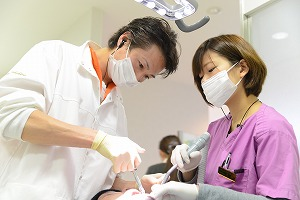mask: (202, 72, 237, 109), (108, 55, 141, 89)
